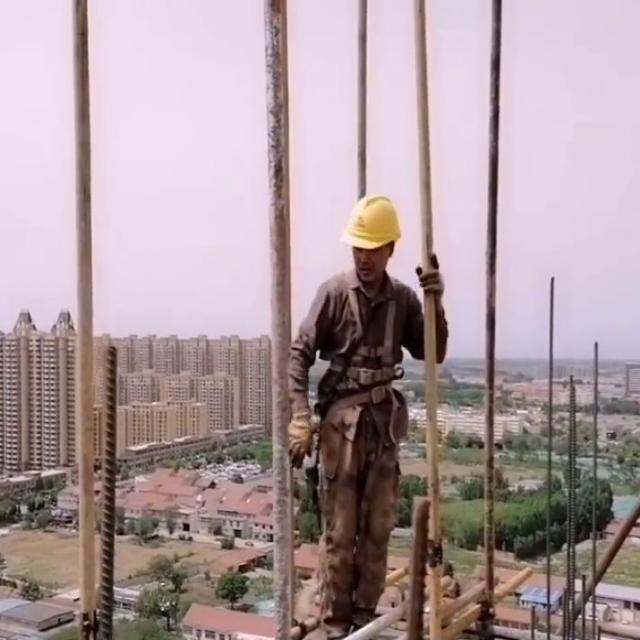Arnes_seguridad: (322, 265, 406, 399)
